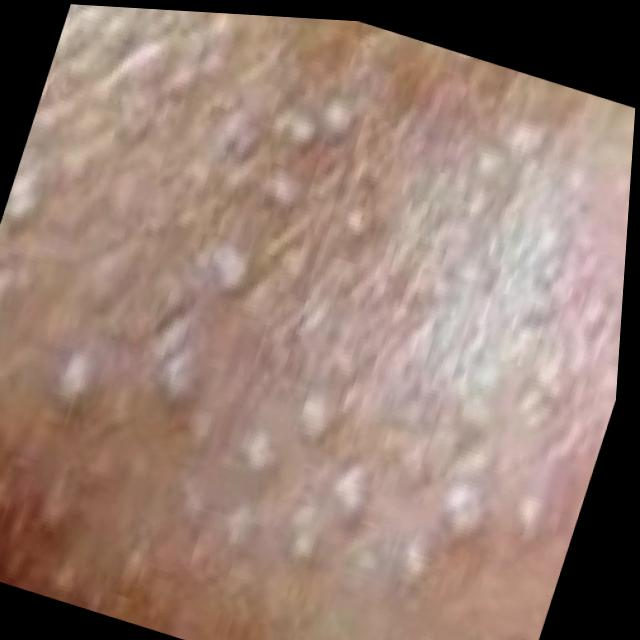whitehead: (0, 4, 634, 571)
